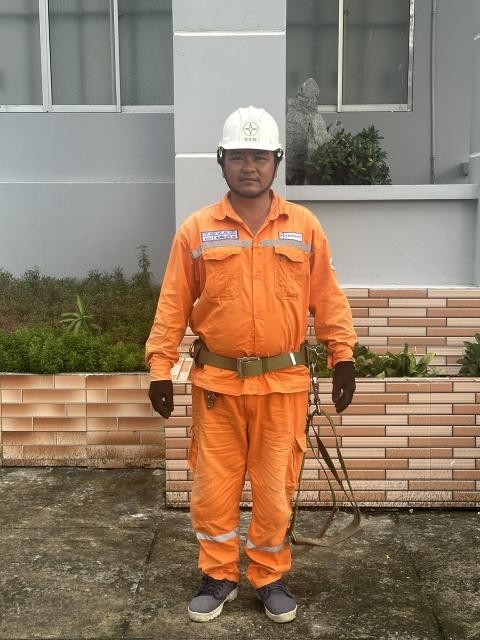gloves: (135, 366, 182, 423), (322, 352, 360, 413)
harness: (181, 335, 331, 383)
helmet: (217, 99, 303, 172)
shoes: (179, 540, 232, 630), (244, 575, 304, 628)
